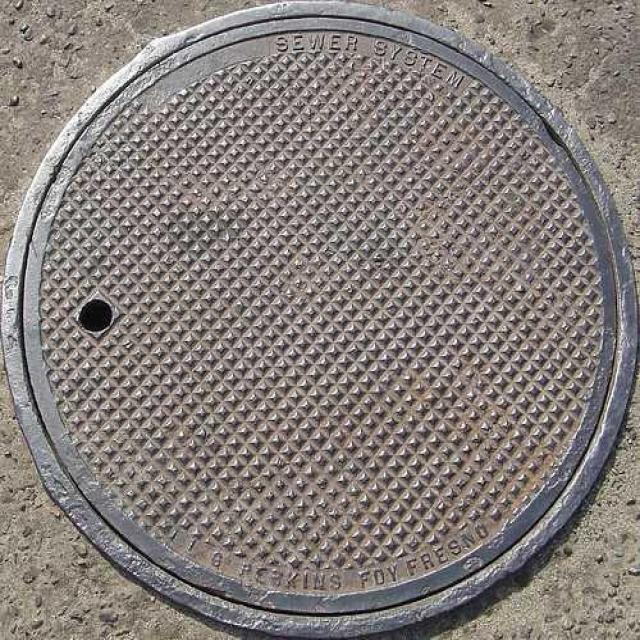manhole: (2, 3, 636, 636)
